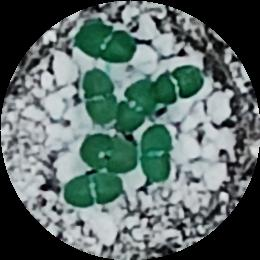Basil: (111, 78, 160, 134), (80, 16, 137, 62), (80, 133, 137, 175), (61, 171, 126, 207), (157, 66, 205, 108), (79, 70, 117, 123), (143, 124, 170, 183)
